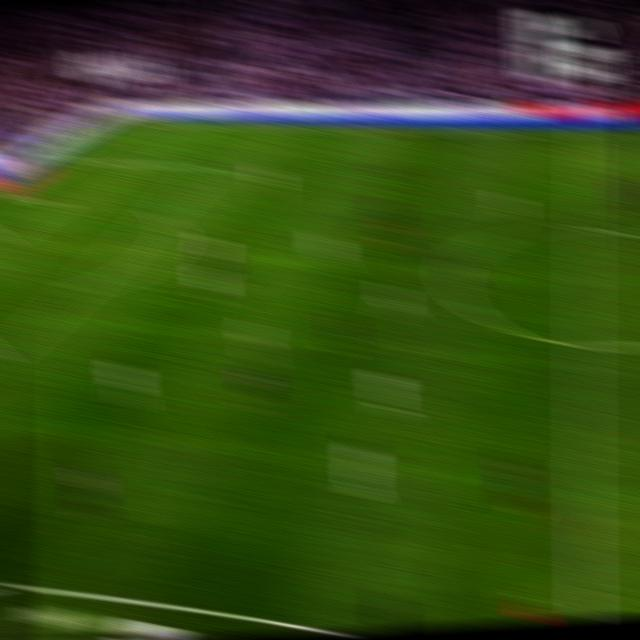bigarea_top_inner: (198, 156, 224, 174)
bigarea_top_outter: (54, 150, 78, 165)
bottom_arc_area_intersection: (65, 278, 93, 299)
corner: (112, 114, 136, 127)
halfcircle_bottom: (568, 328, 598, 361)
halfcircle_top: (568, 214, 598, 244)
midline_top_intersection: (572, 126, 596, 142)
smallarea_top_inner: (43, 191, 67, 208)
top_arc_area_intersection: (148, 203, 173, 223)
